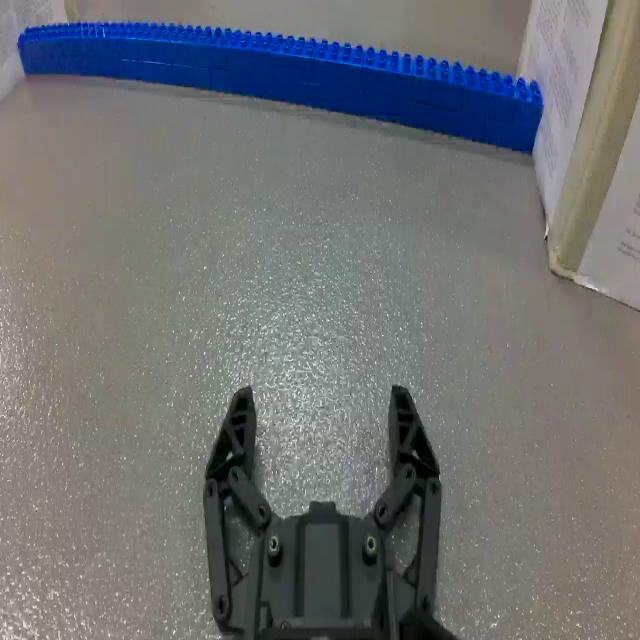river: (14, 19, 544, 154)
storage cube: (512, 0, 640, 315)
